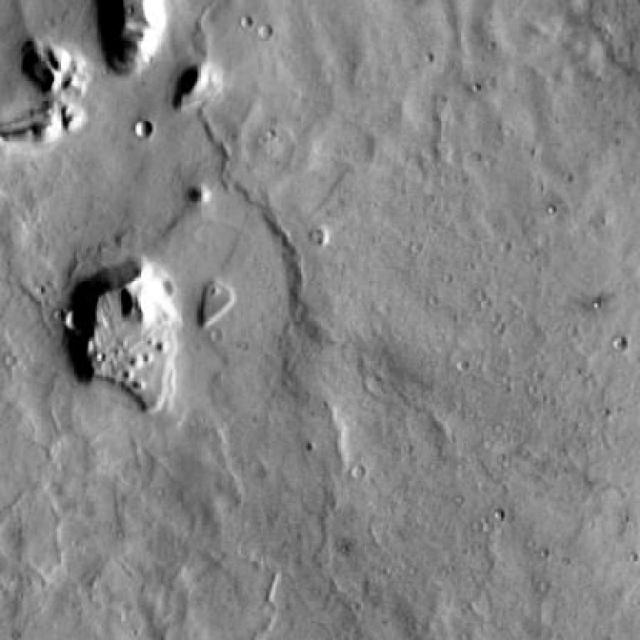crater: (55, 306, 77, 328), (134, 122, 154, 140)
